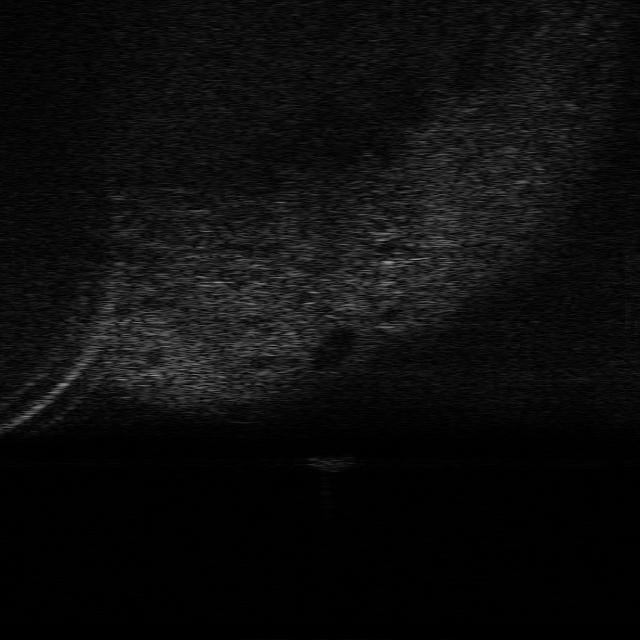cube: (302, 451, 358, 473)
